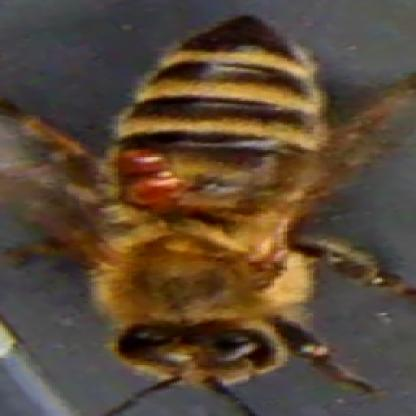bee: (102, 12, 326, 393)
vaoora: (116, 145, 166, 173), (135, 174, 180, 202)
